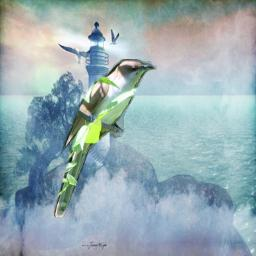Cuckoo: (54, 59, 157, 217)
